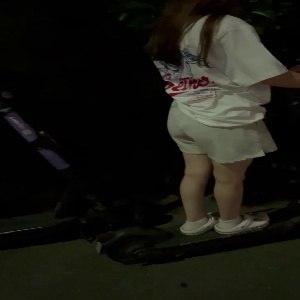human on a scooter: (87, 1, 300, 270)
